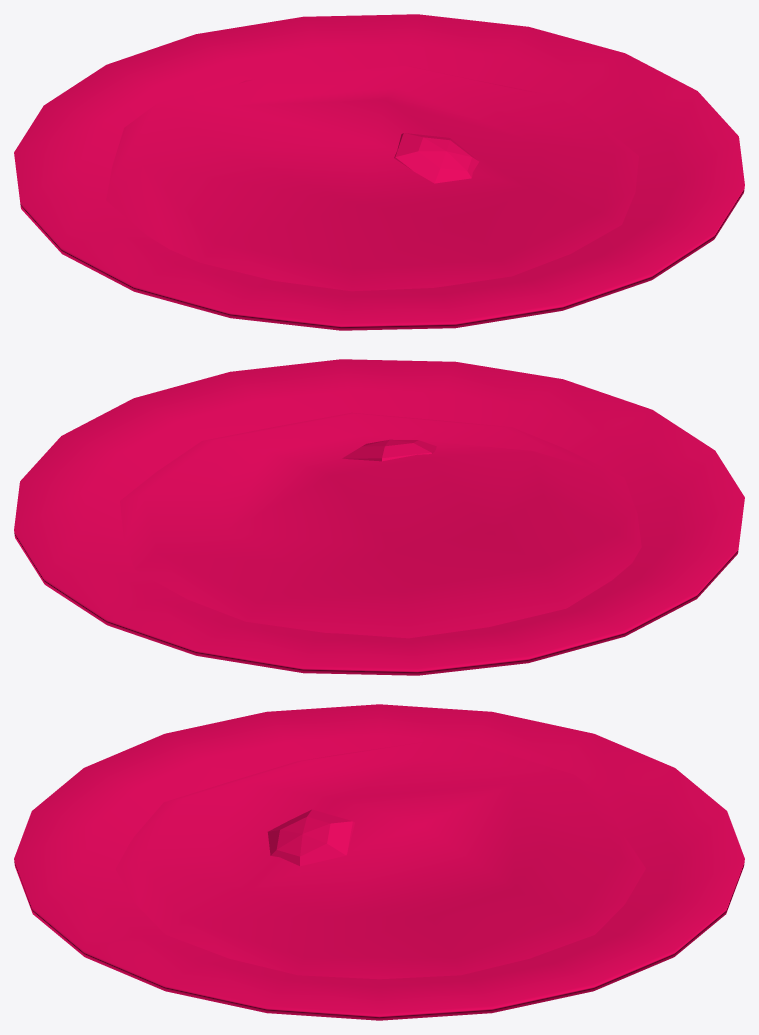
File: Plate_Food_01_Lod0.fbx
3 renders of one model, top to bottom at view 1: azimuth 30°, elevation 25°; view 2: azimuth 150°, elevation 25°; view 3: azimuth 270°, elevation 25°, orthographic.
Visible parts, largest first — view 1: Plate_Food_01_Lod0; view 2: Plate_Food_01_Lod0; view 3: Plate_Food_01_Lod0.
Part boxes in pixels (x1=…): Plate_Food_01_Lod0: x1=14, y1=14, x2=744, y2=330; Plate_Food_01_Lod0: x1=14, y1=359, x2=744, y2=675; Plate_Food_01_Lod0: x1=14, y1=704, x2=744, y2=1020.
Bounding box in the file's own units: 28.93 × 4.42 × 28.93.
